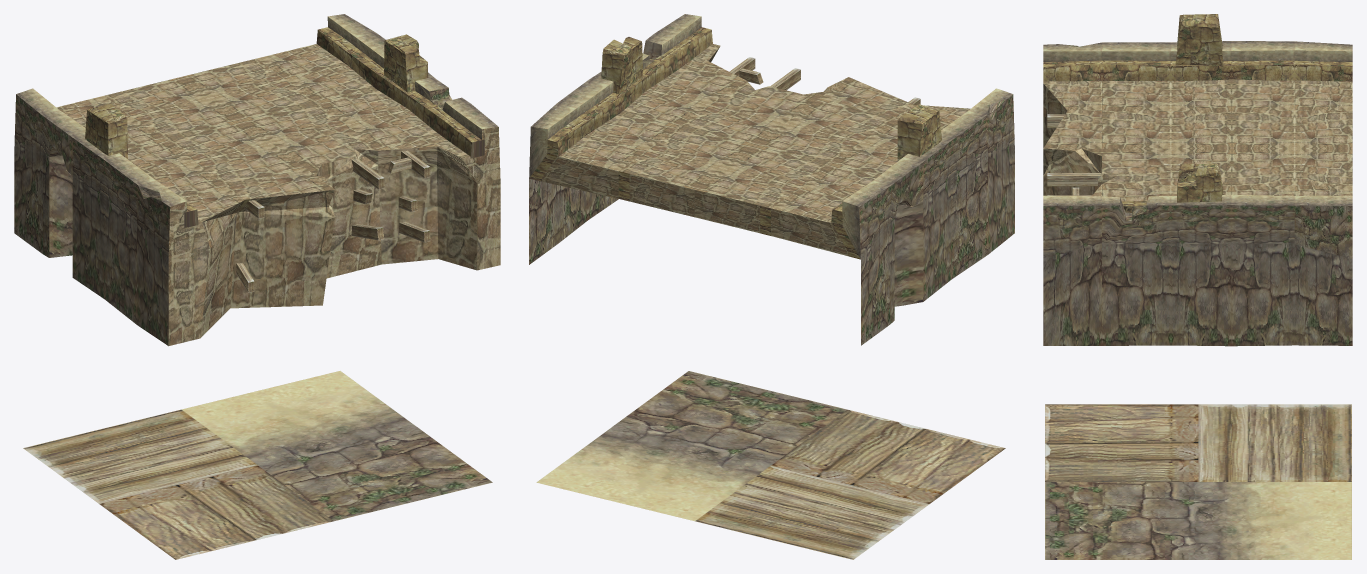
Rendered from C3SMBRIDGEBROKEN.obj.
3 renders of one model, left to right at view 1: azimuth 30°, elevation 25°; view 2: azimuth 150°, elevation 25°; view 3: azimuth 270°, elevation 25°, orthographic.
Parts seen in each view (by area): view 1: Node 0; view 2: Node 0; view 3: Node 0.
Part boxes in pixels (x1,y1,x2,y2): Node 0: (14,14,500,559); Node 0: (529,14,1014,559); Node 0: (1043,14,1352,559).
Bounding box in the file's own units: 31.71 × 35.23 × 25.24.
2 materials, 2 textured.
